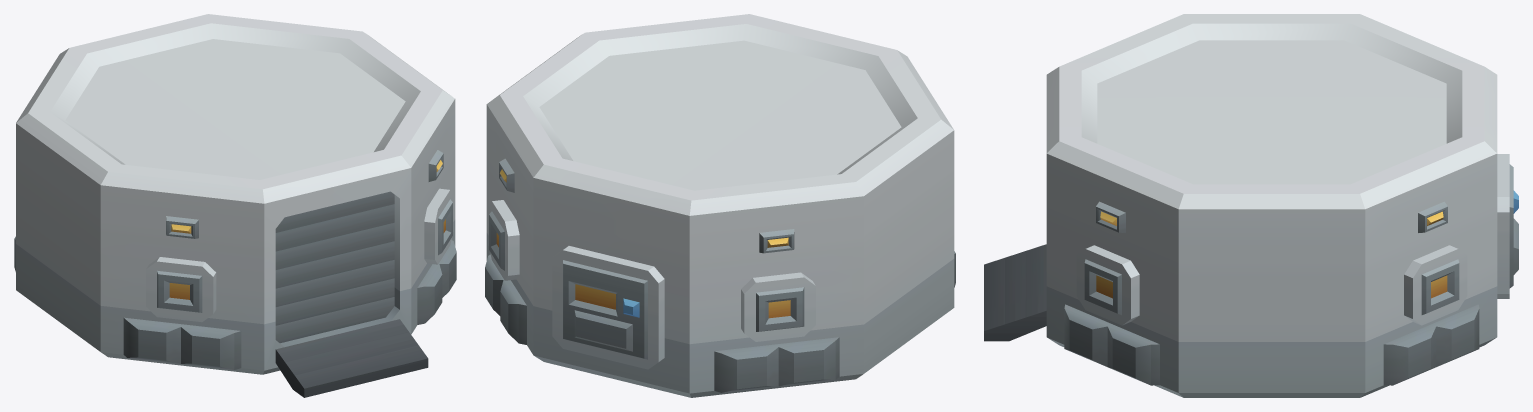
The model's file is basemodule_garage.glb.
The picture shows the model from 3 angles, left to right: view 1: azimuth 30°, elevation 25°; view 2: azimuth 150°, elevation 25°; view 3: azimuth 270°, elevation 25°; orthographic projection. The views are drawn at different scales.
Parts seen in each view (by area): view 1: Cylinder.2718, basemodule_garage_door; view 2: Cylinder.2718; view 3: Cylinder.2718.
Boxes of the visible parts, left/top/right/bottom form: Cylinder.2718: left=14, top=14, right=456, bottom=397; basemodule_garage_door: left=275, top=191, right=394, bottom=343; Cylinder.2718: left=485, top=14, right=955, bottom=397; Cylinder.2718: left=984, top=14, right=1518, bottom=397.
Bounding box in the file's own units: 2 × 0.9999 × 2.37.
Materials: 1 (1 with a texture image).
